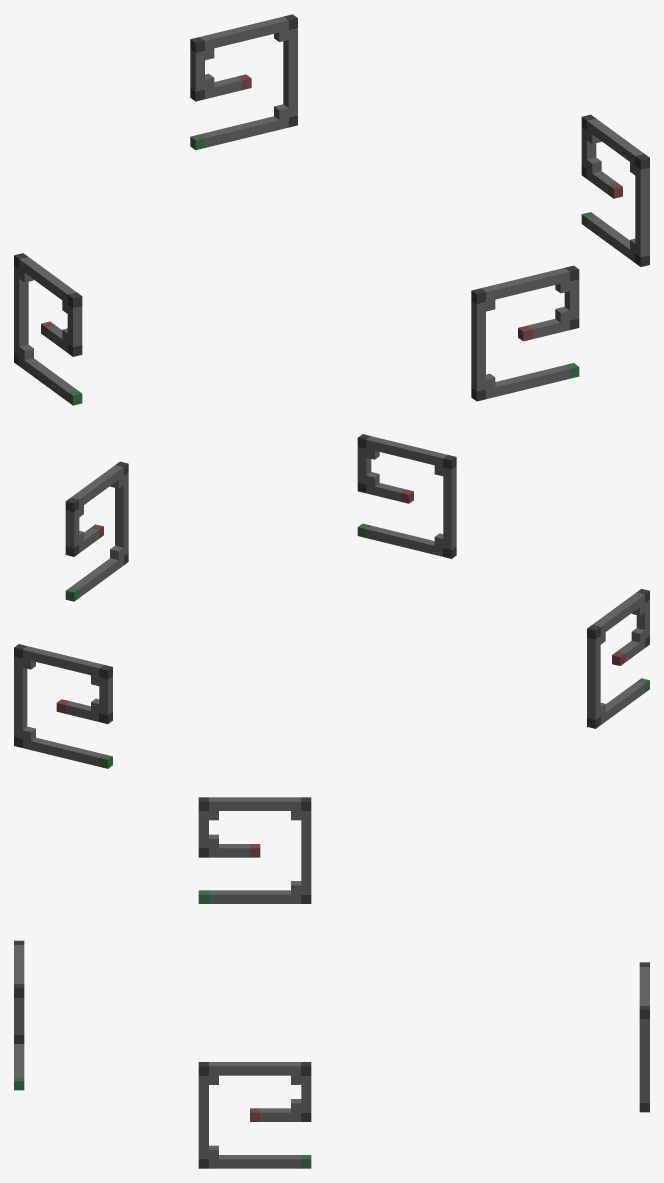
The model's file is pattern_5.glb.
3 renders of one model, top to bottom at view 1: azimuth 30°, elevation 25°; view 2: azimuth 150°, elevation 25°; view 3: azimuth 270°, elevation 25°, orthographic. The views are drawn at different scales.
Parts seen in each view (by area): view 1: crate_pattern_5; view 2: crate_pattern_5; view 3: crate_pattern_5.
Boxes of the visible parts, left/top/right/bottom form: crate_pattern_5: left=14, top=14, right=649, bottom=405; crate_pattern_5: left=14, top=434, right=649, bottom=768; crate_pattern_5: left=14, top=797, right=649, bottom=1168.
Bounding box in the file's own units: 6.2 × 1.1 × 6.2.
Materials: 1 (1 with a texture image).
